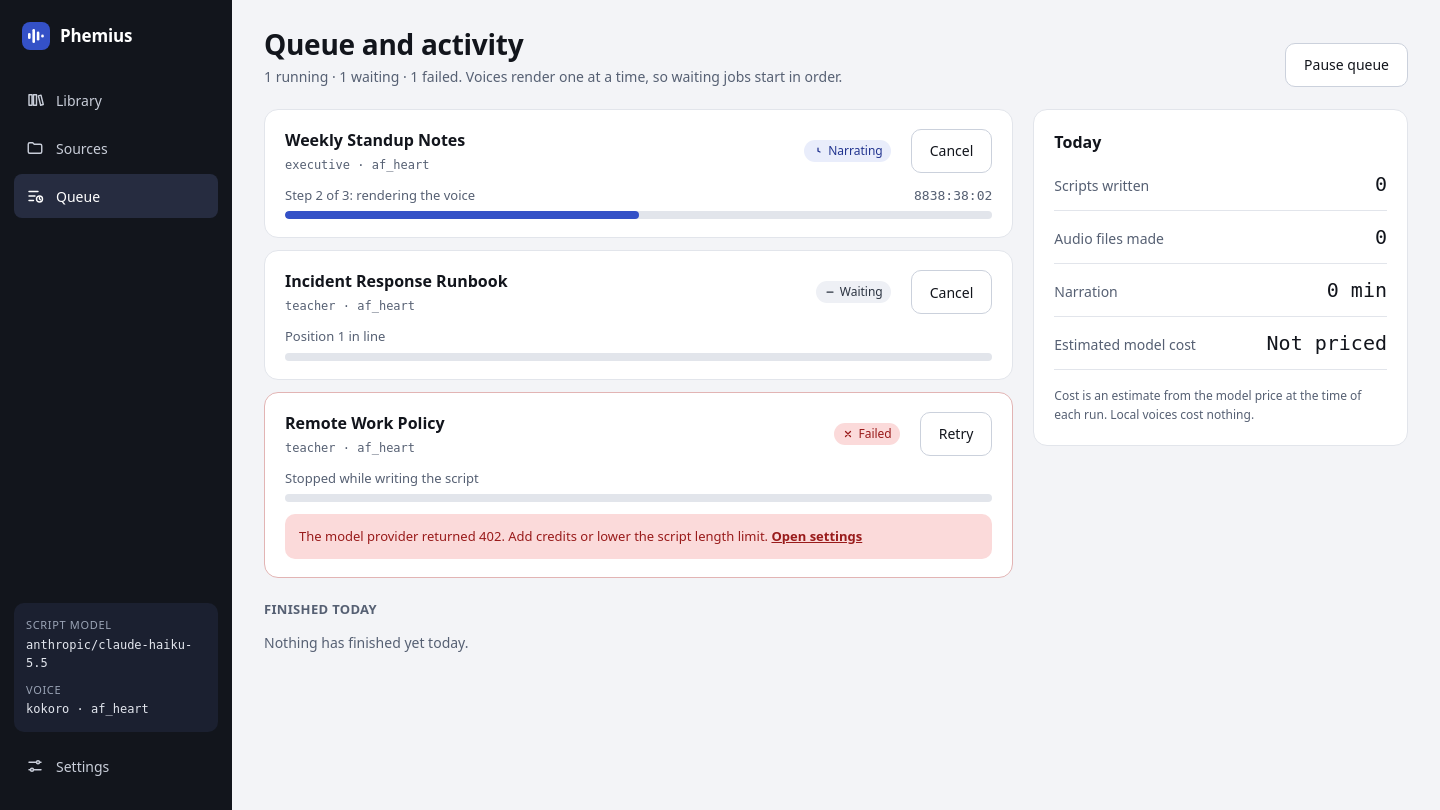
Scenario: queue › pauses and resumes the queue
This screenshot has width=1440, height=810.
Check: the element "Weekly Standup Notes" is shown, box [264,109,1013,238]
Click the button "Pause queue". click: (1347,65)
box: [1285,43,1408,87]
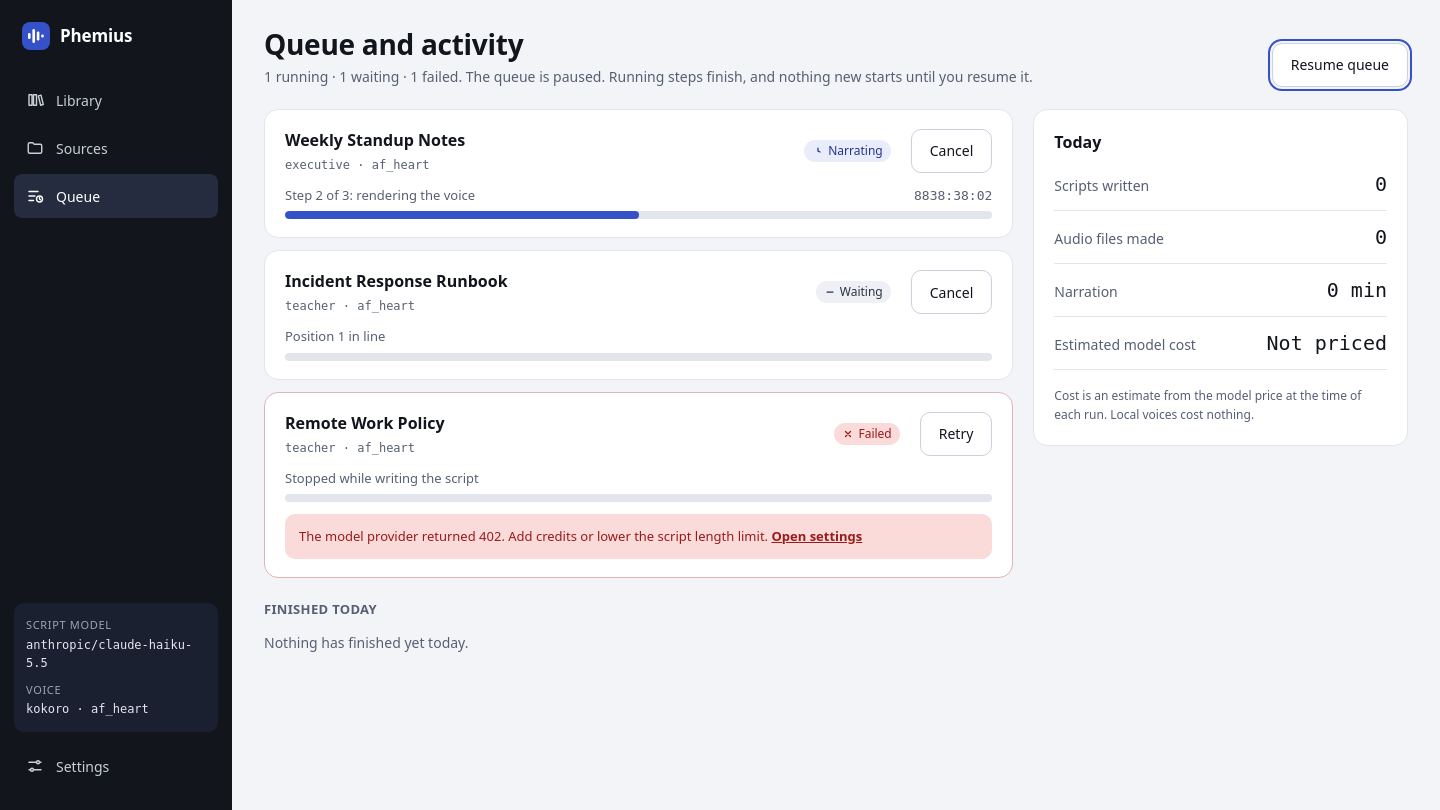
Check: the button "Resume queue" is shown
Check: the text "The queue is paused." is shown, box [264,67,1033,86]
Click the button "Resume queue". click: (1340,65)
box: [1272,43,1408,87]
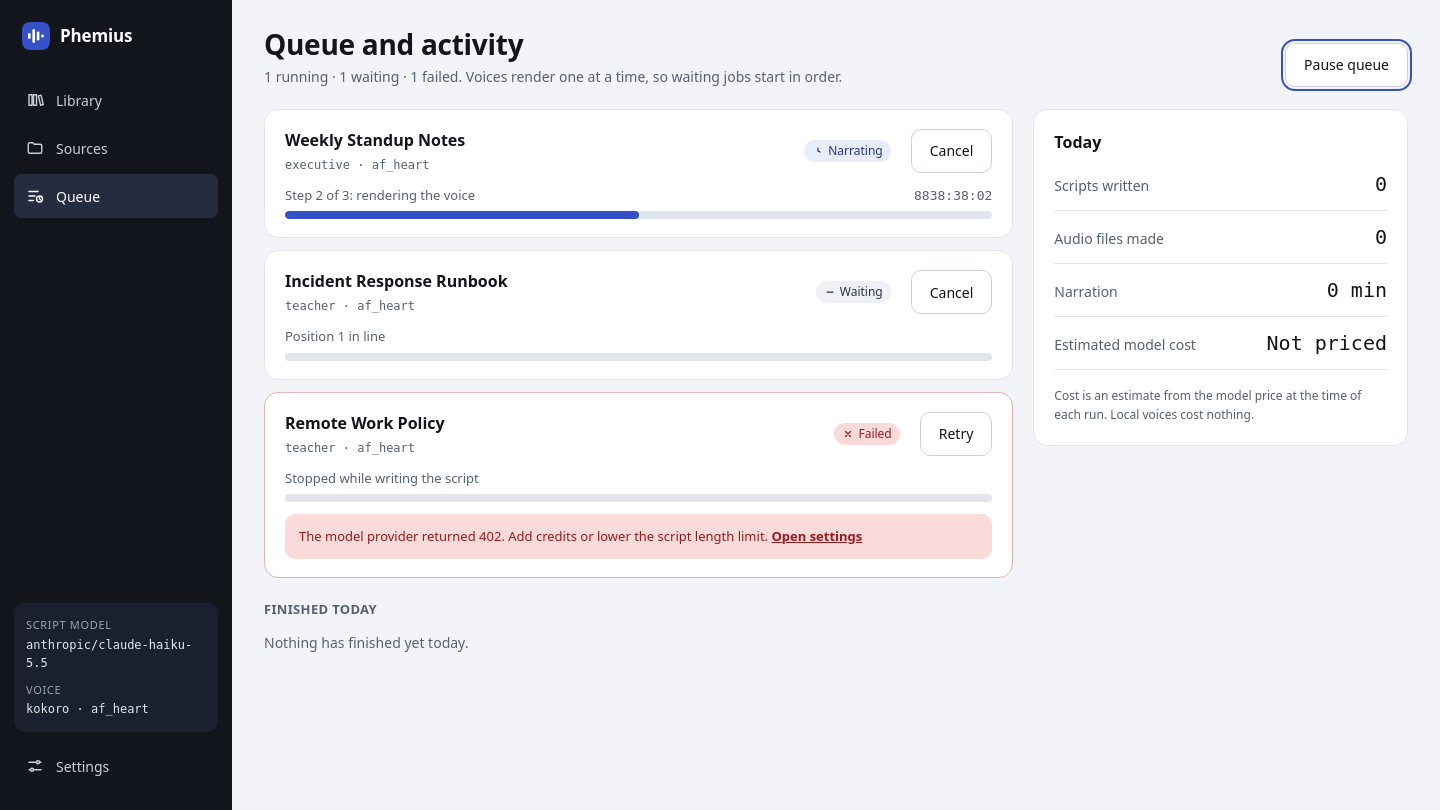
Check: the button "Pause queue" is shown, box [1285,43,1408,87]
